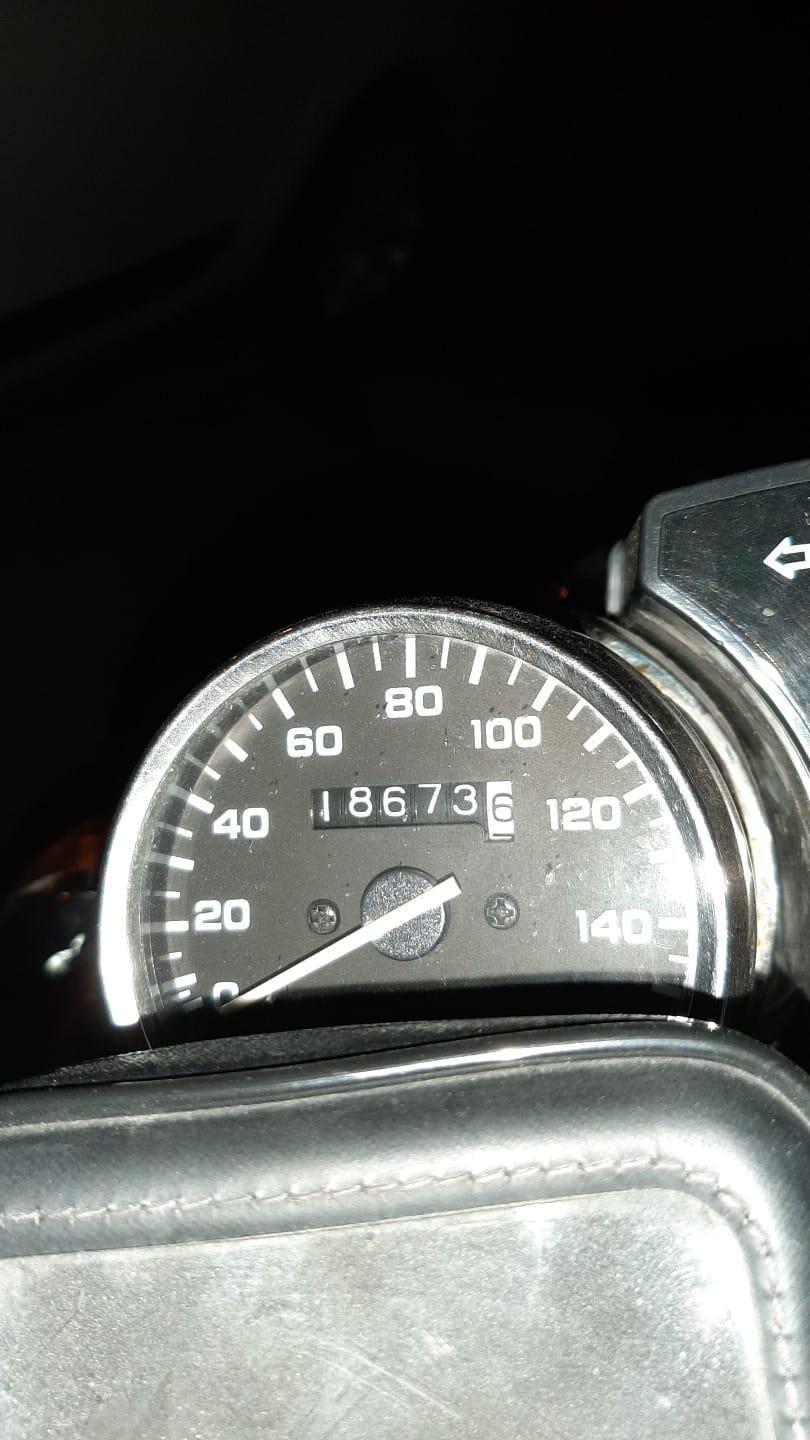1: (318, 785, 334, 826)
3: (453, 780, 480, 819)
6: (379, 783, 409, 820), (488, 787, 516, 825)
7: (415, 780, 444, 816)
8: (345, 786, 374, 821)
odometer: (306, 776, 529, 846)
